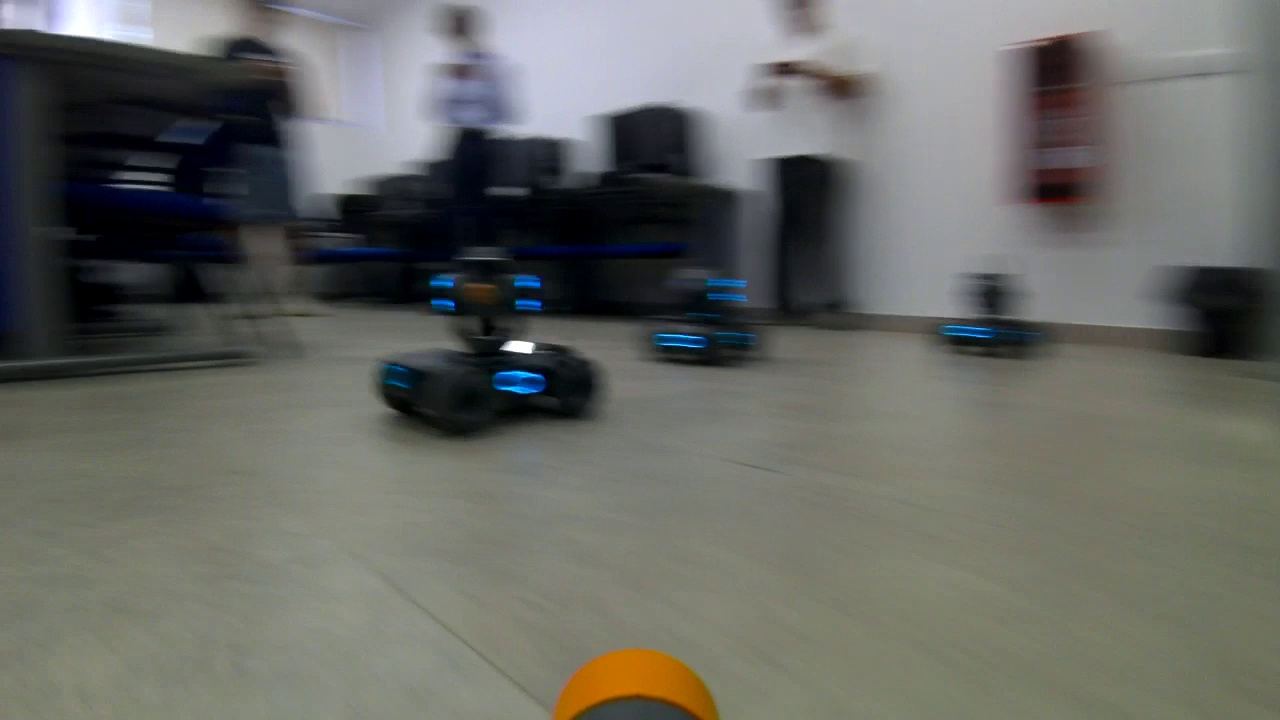robot: (360, 246, 609, 441)
